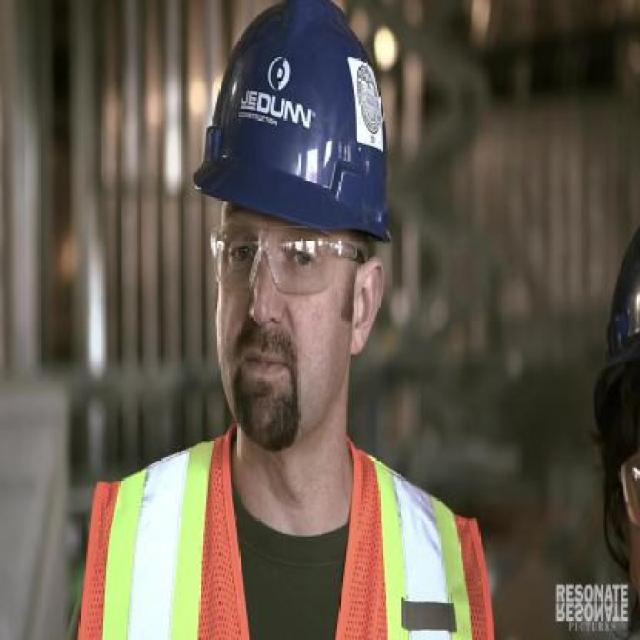Vest: (78, 422, 499, 638)
helmet: (190, 0, 396, 246), (598, 218, 639, 377)
